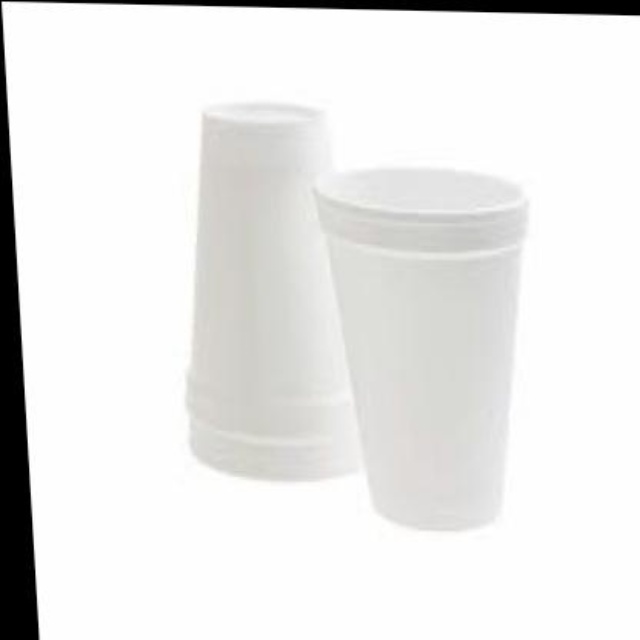trash: (315, 169, 526, 528), (188, 103, 355, 478)
